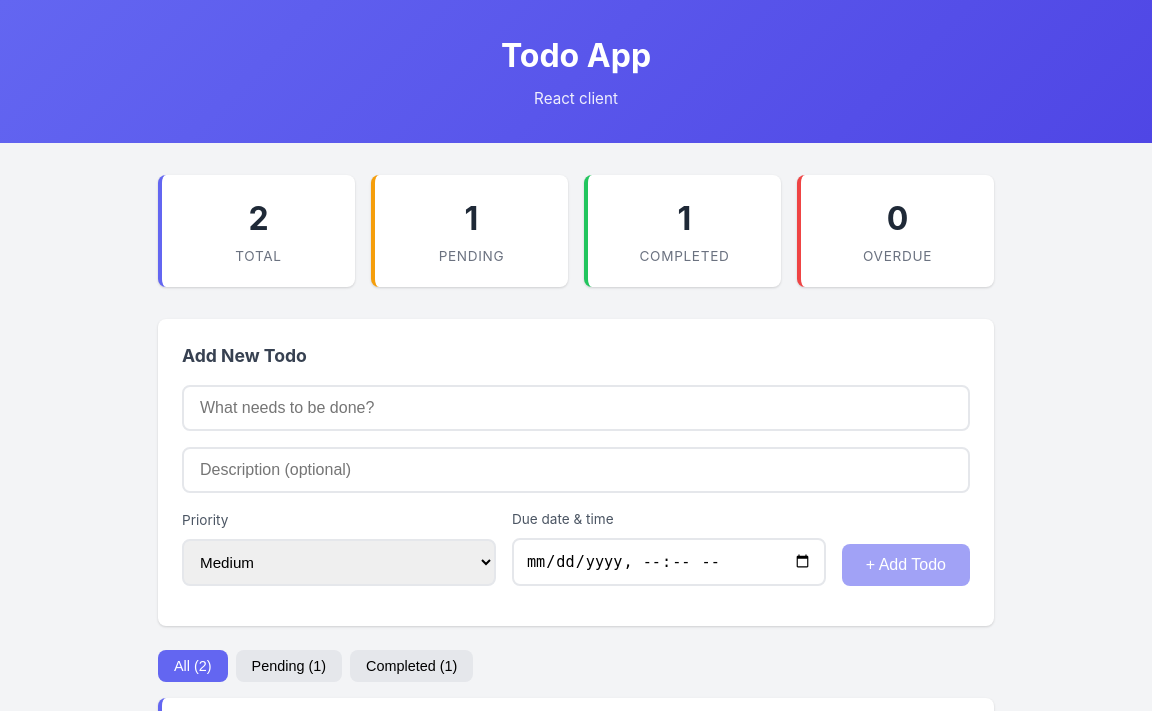
Scenario: App › filters by status and deletes
Check: the element named "Statistics" is shown, box [158,175,994,287]
Click the button "Completed (1)": (412, 666) [350,650,473,682]
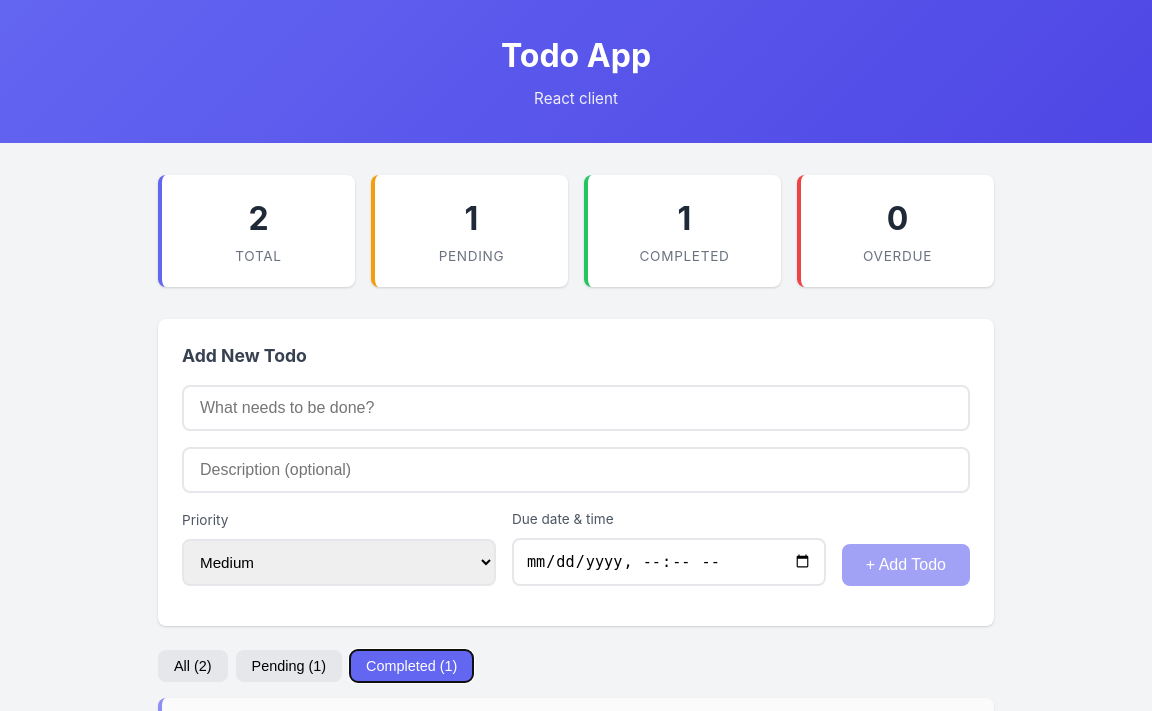
Click the button "Pending (1)": (289, 666) [236,650,342,682]
(page scrolled)
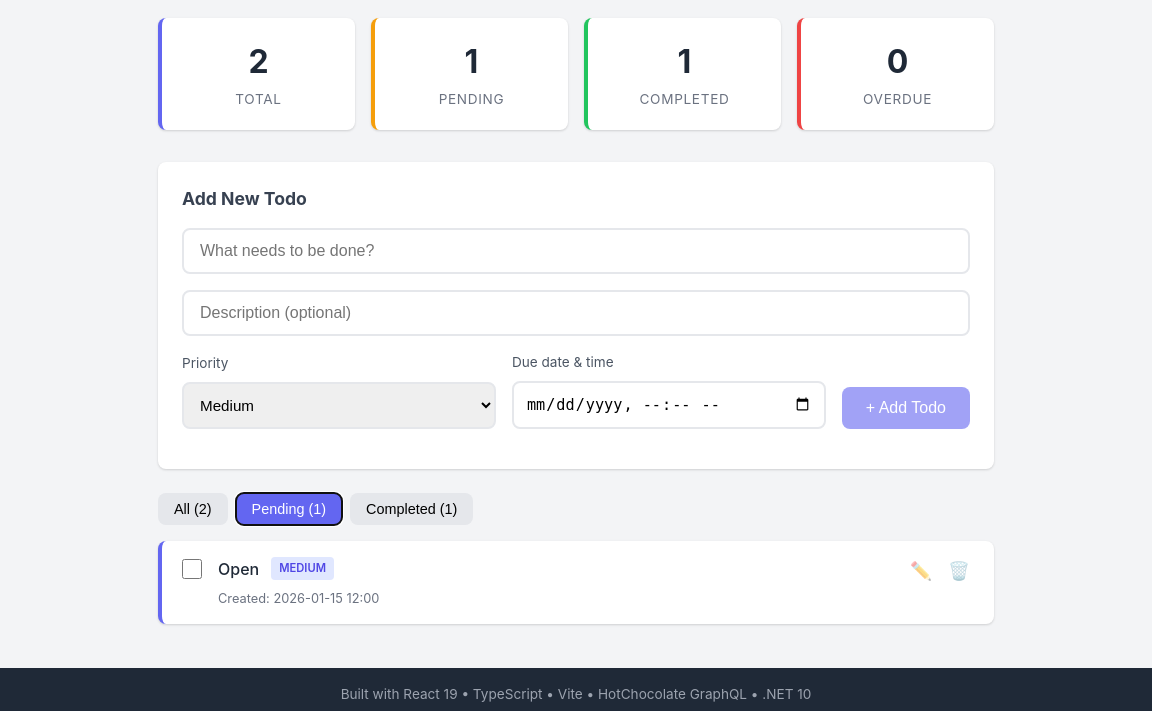
Click the button named "Delete Open": (959, 571) [944,557,974,586]
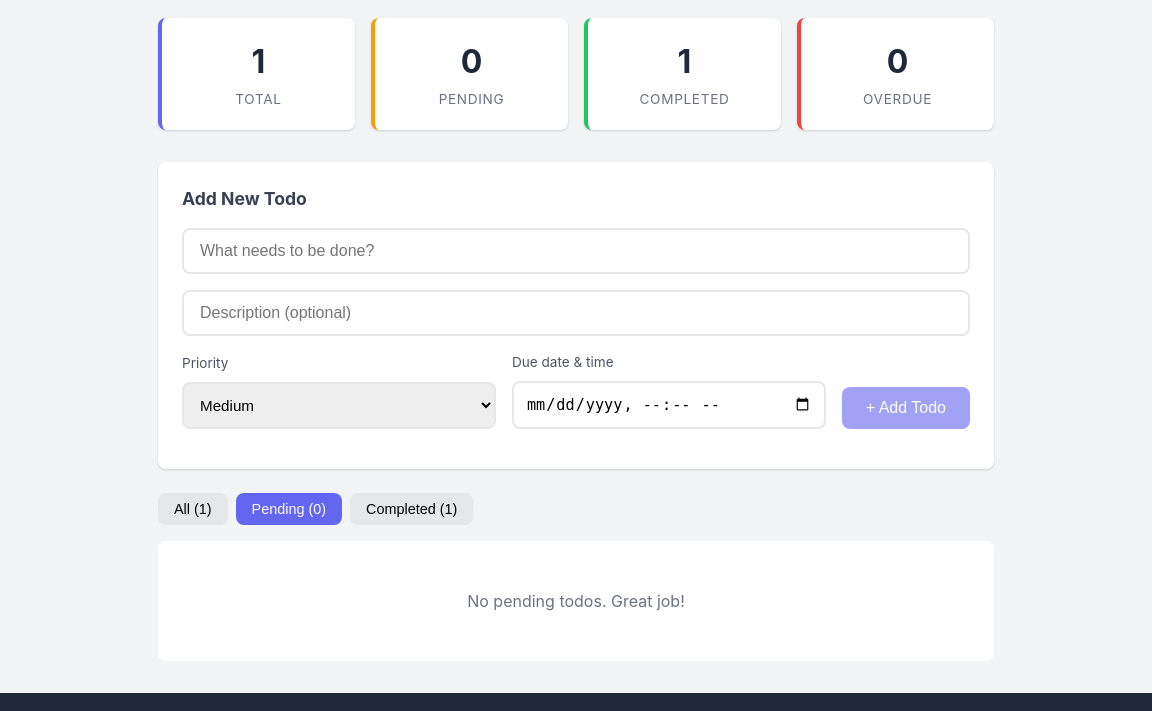
Check: the text "No pending todos. Great job!" is shown, box [467,591,685,611]
